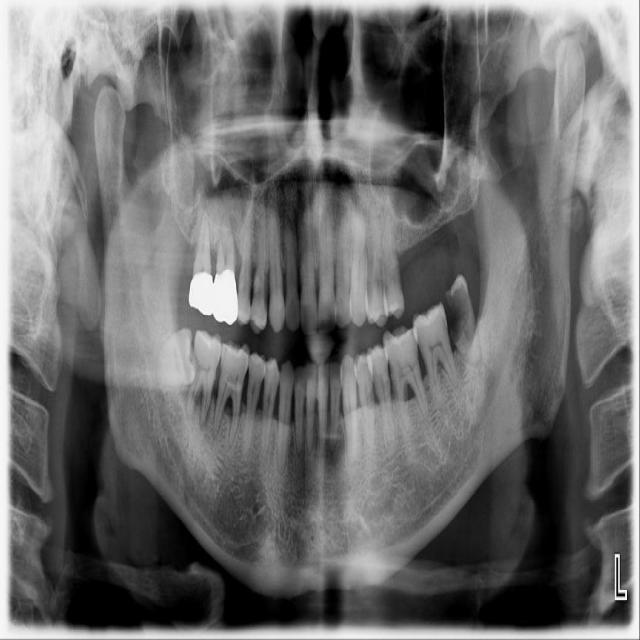52: (186, 268, 241, 330), (211, 269, 238, 326), (188, 271, 214, 316), (443, 293, 464, 334), (189, 351, 200, 388)
73: (613, 562, 619, 578)
Biomet 3i Implant: (437, 272, 485, 370)
Blue Sky Bio Implant: (408, 302, 467, 411), (408, 300, 464, 410)
Caries: (189, 209, 215, 316)
Implant: (182, 328, 224, 427), (185, 330, 224, 425)
Keystone Dental Implant: (153, 327, 200, 388)
